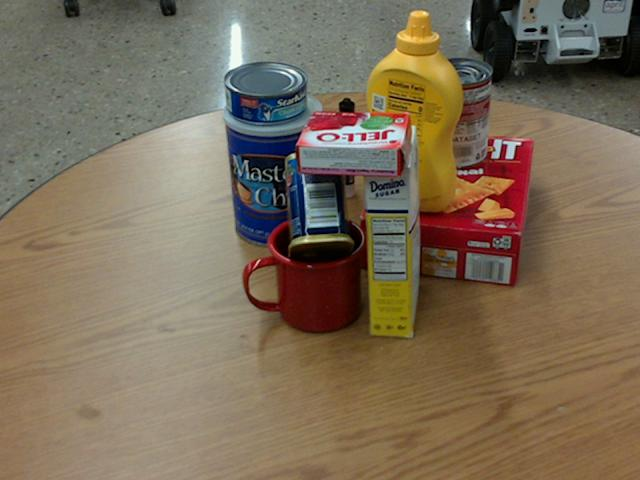cracker_box: (358, 127, 533, 285)
gelatin_box: (293, 109, 412, 177)
large_marker: (337, 99, 354, 198)
master_chef_can: (223, 87, 325, 245)
mug: (239, 214, 363, 333)
mustard_bottle: (362, 10, 463, 211)
potted_meat_can: (284, 150, 354, 268)
sugar_box: (362, 124, 417, 337)
tomato_soup_can: (426, 57, 491, 167)
tuna_fish_can: (223, 60, 306, 122)
